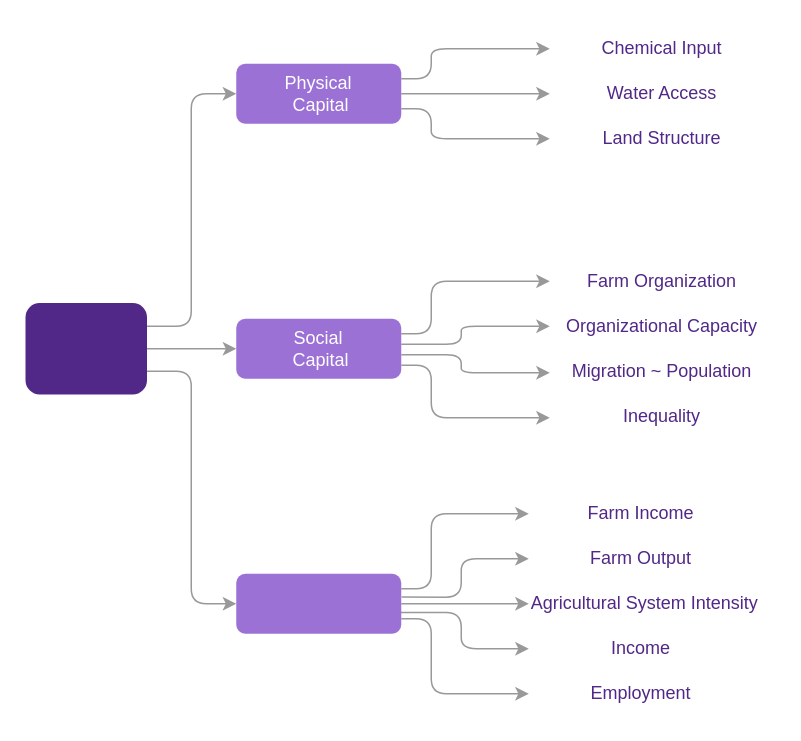
Some shapes in this 801 by 741 pixel diagram are drawn without their labels. The shapes that lost their labels are listed below. From the top down, each one's centre as x and y in pixels, then its label:
At [85,348]: "Adaptive Capacity".
At [318,603]: "Economic Capital".
